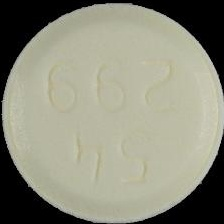0054-4179: (0, 0, 224, 224)
